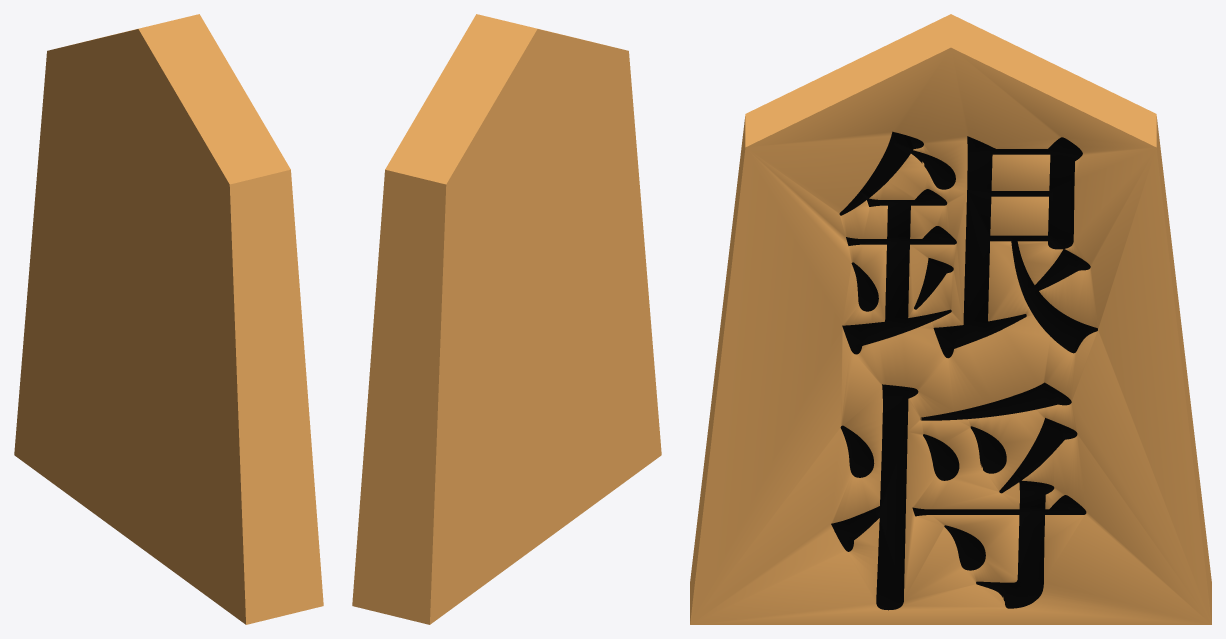
The model's file is JapaneseChessSilver.fbx.
3 renders of one model, left to right at view 1: azimuth 30°, elevation 25°; view 2: azimuth 150°, elevation 25°; view 3: azimuth 270°, elevation 25°, orthographic. The views are drawn at different scales.
Visible parts, largest first — view 1: Cube; view 2: Cube; view 3: Cube.
Boxes of the visible parts, x1,y1,x2,y2 form: Cube: [14, 14, 323, 624]; Cube: [352, 14, 661, 624]; Cube: [690, 14, 1211, 624].
Bounding box in the file's own units: 38.67 × 242 × 200.
Materials: 2 (2 with a texture image).
